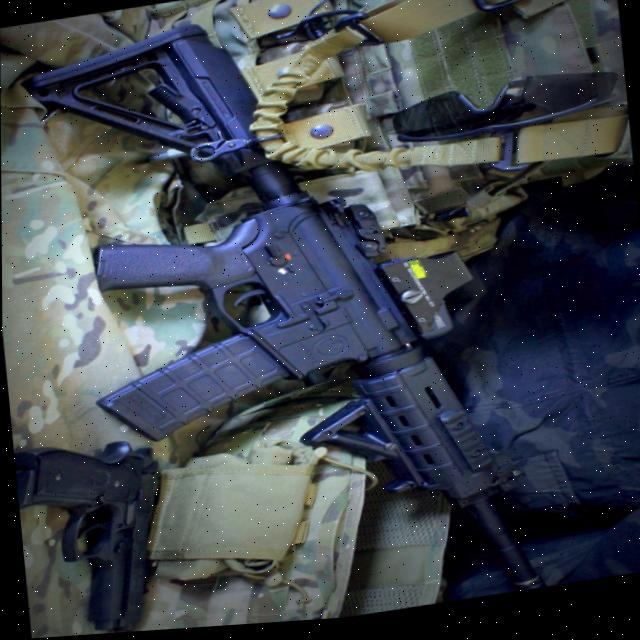firearm: (18, 0, 560, 639)
pistol: (12, 426, 174, 640)
